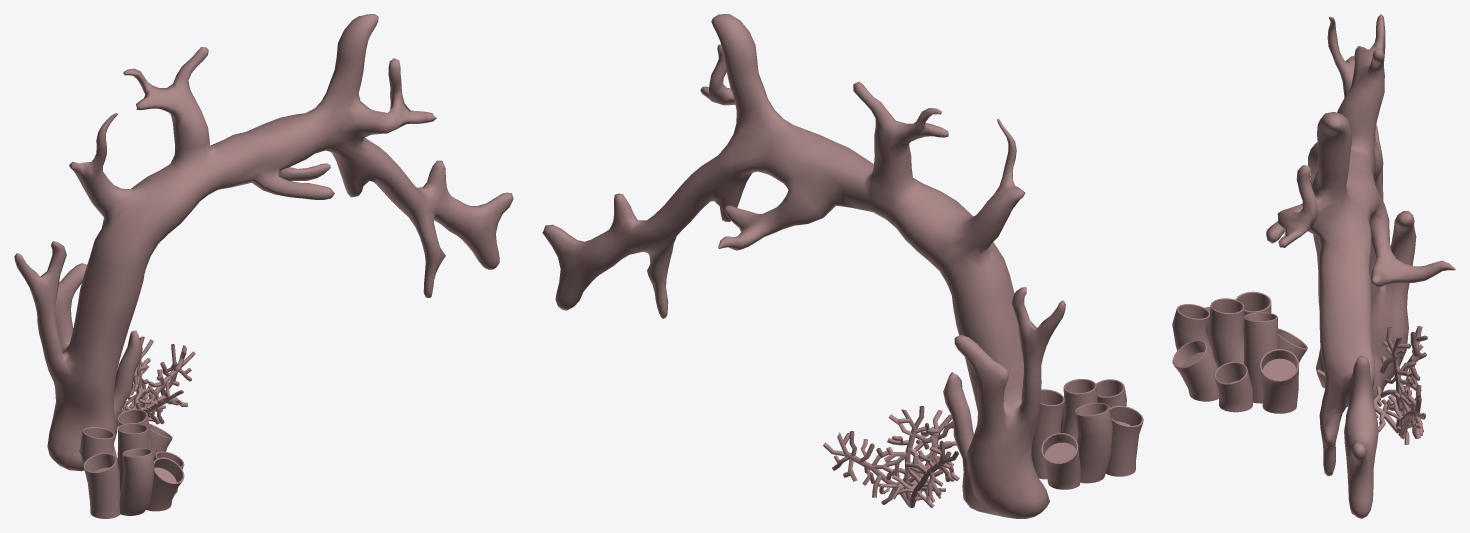
The model's file is coral arch with corals.fbx.
3 renders of one model, left to right at view 1: azimuth 30°, elevation 25°; view 2: azimuth 150°, elevation 25°; view 3: azimuth 270°, elevation 25°, orthographic. The views are drawn at different scales.
Parts seen in each view (by area): view 1: arch, coral, coral2B; view 2: arch, coral, coral2B; view 3: arch, coral, coral2B.
Boxes of the visible parts, x1=… form: arch: x1=14, y1=14, x2=513, y2=471; coral: x1=79, y1=409, x2=184, y2=518; coral2B: x1=117, y1=336, x2=195, y2=426; arch: x1=542, y1=14, x2=1065, y2=518; coral: x1=1031, y1=379, x2=1143, y2=489; coral2B: x1=823, y1=406, x2=959, y2=508; arch: x1=1266, y1=14, x2=1455, y2=518; coral: x1=1172, y1=291, x2=1307, y2=413; coral2B: x1=1316, y1=326, x2=1427, y2=444.
Bounding box in the file's own units: 3.89 × 2.93 × 1.75.
